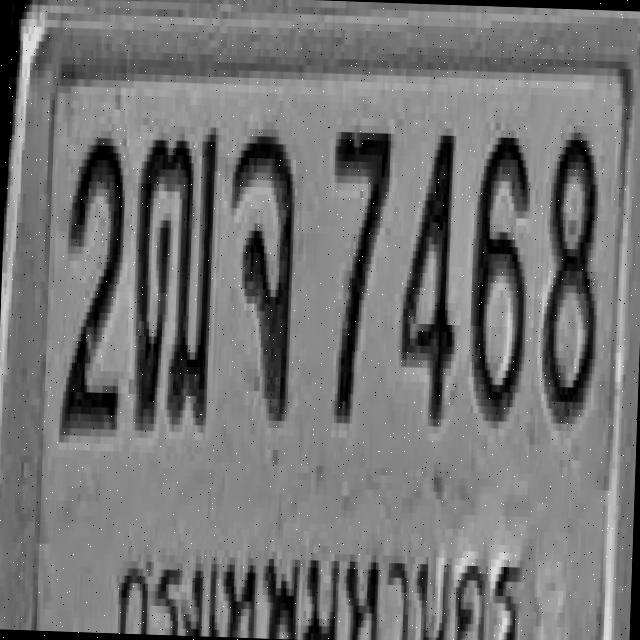17ChorChan: (222, 128, 298, 421)
2: (58, 130, 126, 436)
27ThorPhuThao: (128, 121, 220, 429)
4: (395, 126, 460, 426)
6: (466, 128, 532, 422)
7: (324, 124, 392, 424)
8: (539, 124, 601, 424)
